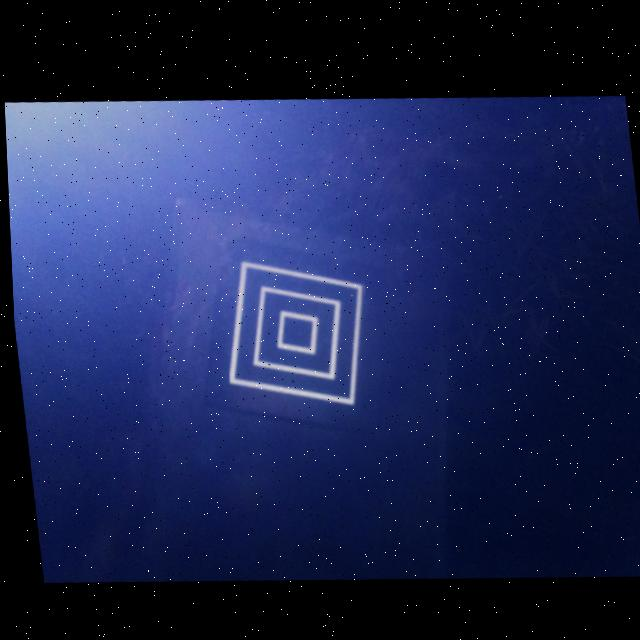BULLSEYE: (226, 258, 361, 401)
